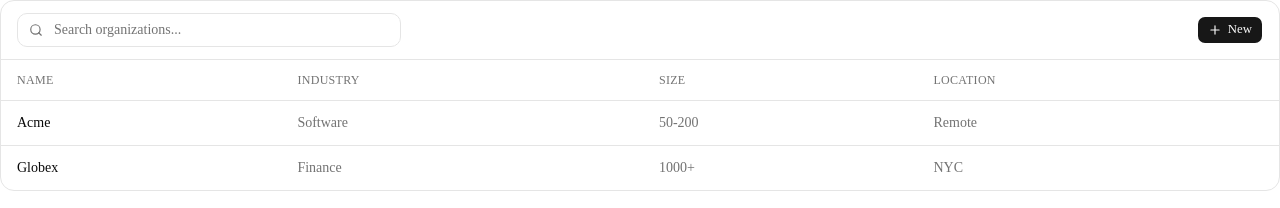
Test case: filters rows by search query
The width and height of the screenshot is (1280, 208).
In the field with placeholder "Search organizations...": (209, 30) [17,13,401,47], type "Globex"
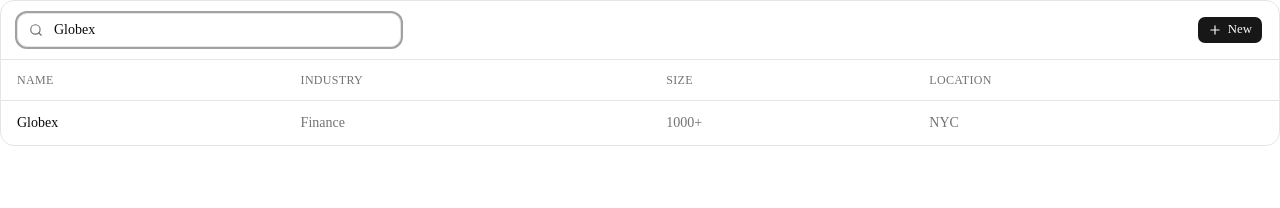
Expected: the text "Globex" is shown, [1,100,285,145]
Expected: the text "Acme" is gone
